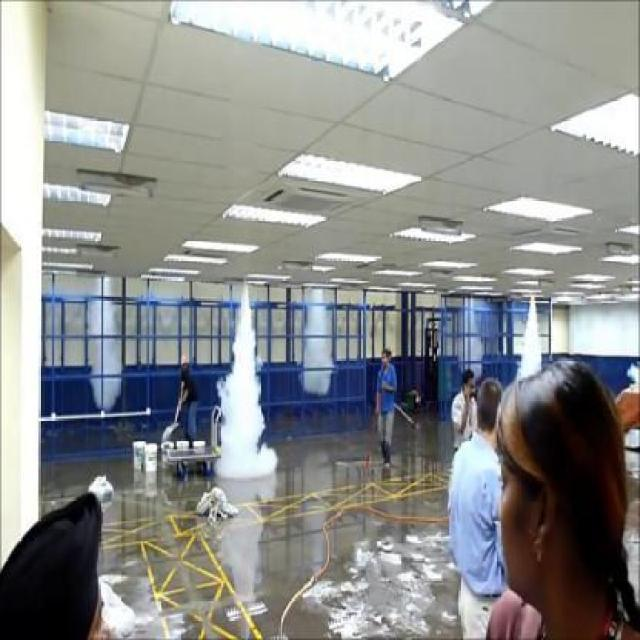fire: (216, 290, 278, 484), (516, 302, 546, 378)
